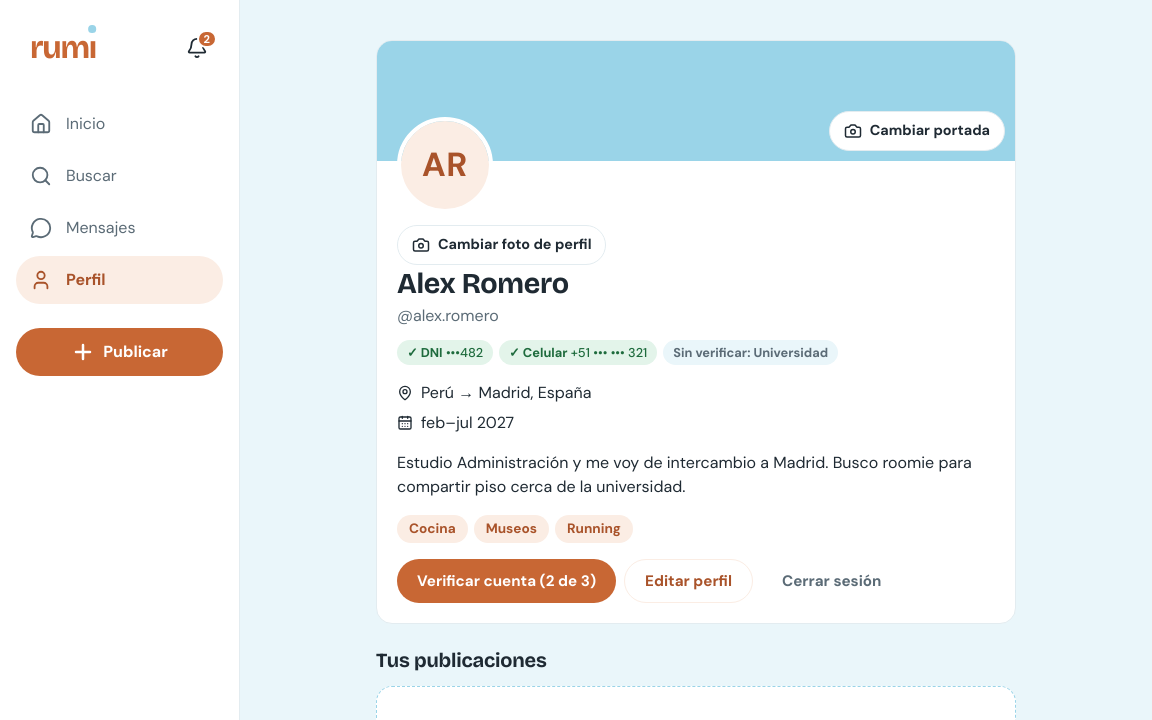
edita la biografía e instagram
The width and height of the screenshot is (1152, 720).
Expected: the heading "Alex Romero" is shown, [397, 266, 569, 301]
Click the button "Editar perfil": (688, 581) [624, 559, 753, 603]
(page scrolled)
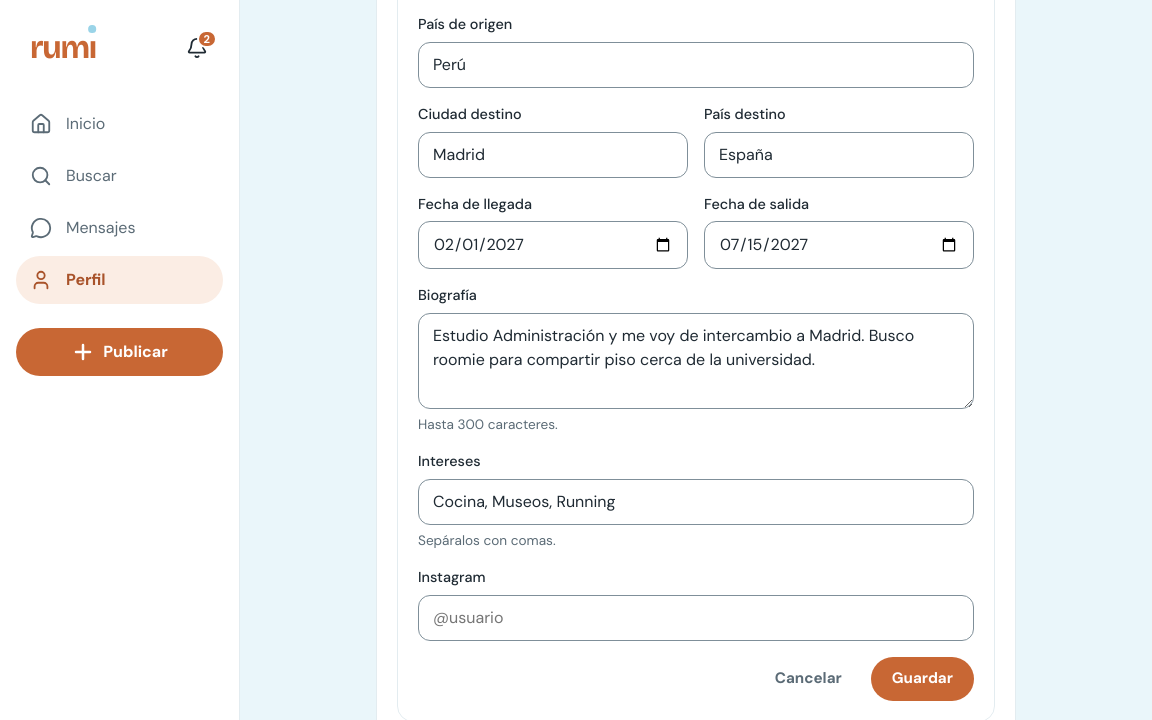
Replace the text in the text box labelled "Biografía" with "Me gusta cocinar": (696, 361) [418, 313, 974, 409]
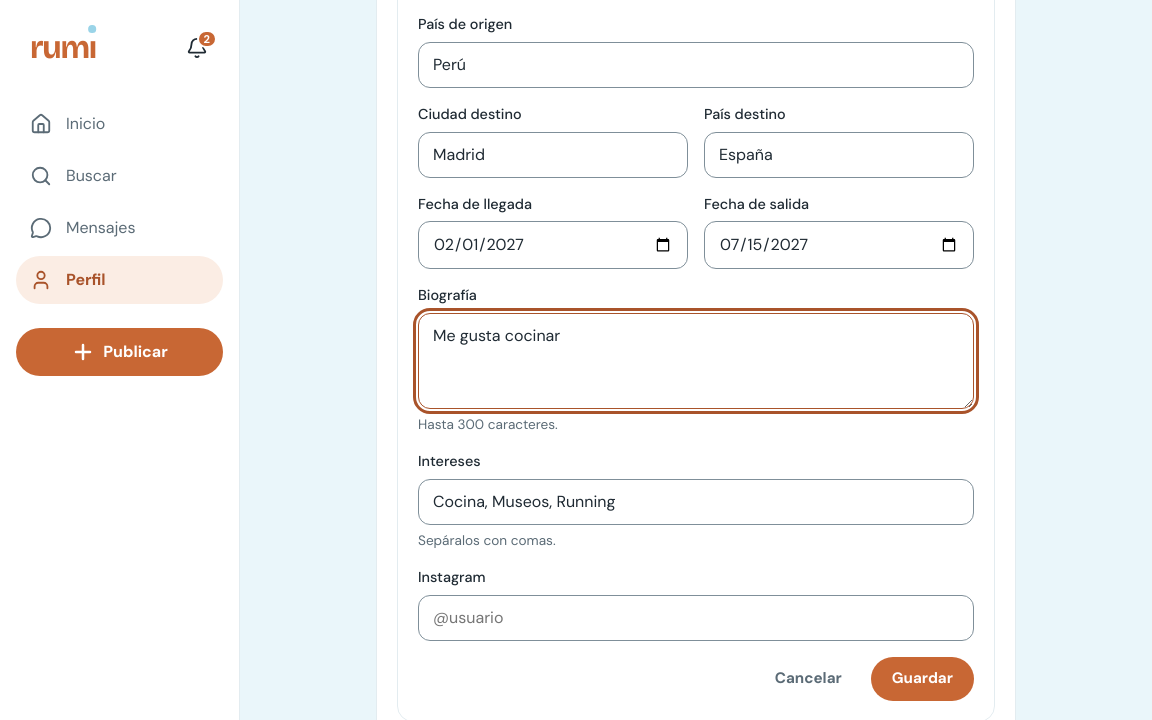
In the field labelled "Instagram": (696, 618) [418, 595, 974, 641], type "@alex"
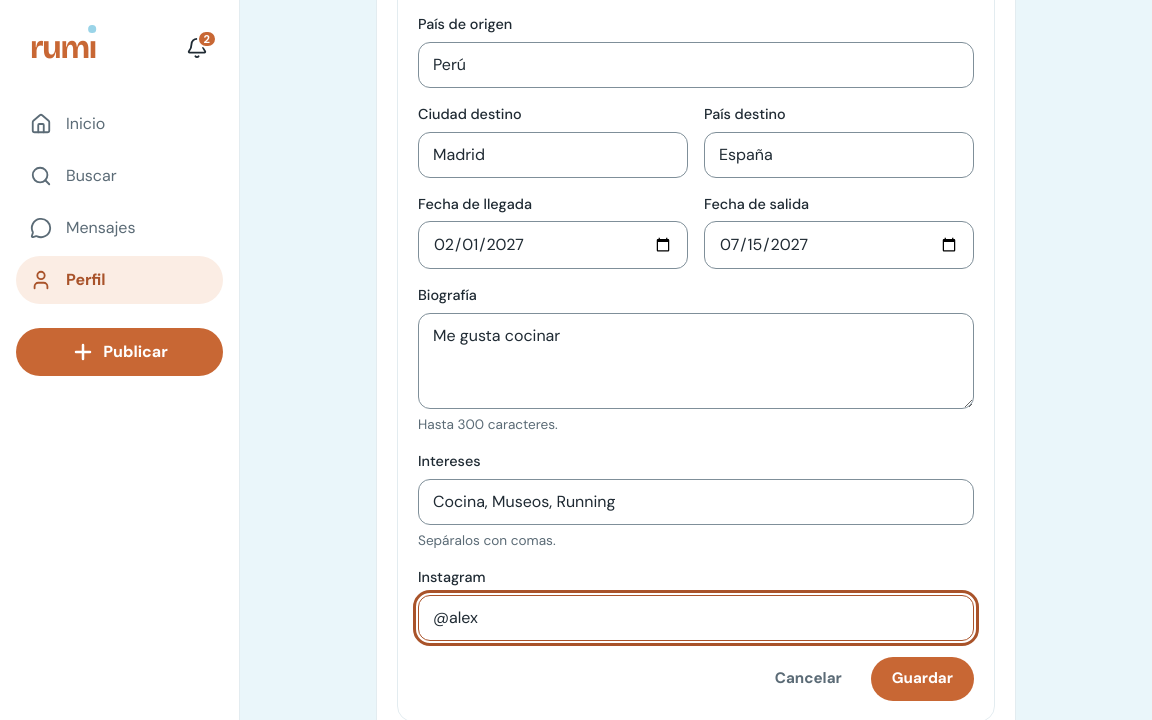
Click the button "Guardar": (922, 679) [871, 657, 974, 701]
(page scrolled)
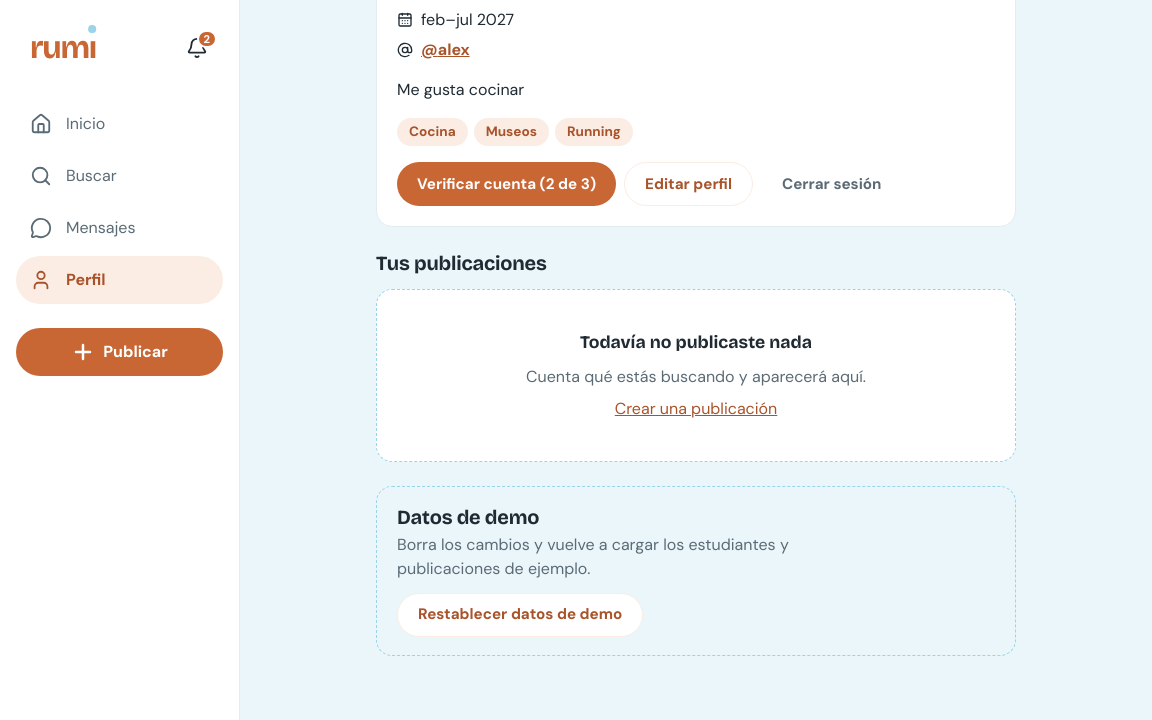
Expected: the text "Me gusta cocinar" is shown, [397, 79, 524, 100]
